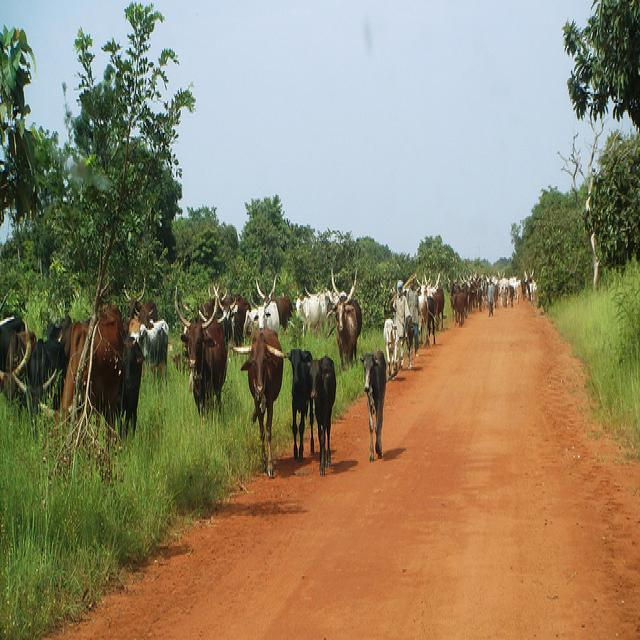cow: (0, 264, 447, 443), (52, 303, 123, 433), (229, 326, 287, 477), (174, 282, 228, 420), (304, 351, 335, 473), (358, 348, 387, 458), (116, 335, 144, 436), (323, 284, 355, 367), (289, 349, 311, 452), (254, 275, 292, 328), (138, 318, 167, 366), (414, 275, 434, 344), (244, 302, 268, 343), (446, 275, 463, 326), (264, 293, 280, 330), (348, 296, 360, 332), (465, 279, 475, 311)
